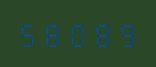eight: (42, 20, 65, 47), (90, 20, 113, 47)
five: (18, 20, 41, 47)
nine: (114, 20, 137, 47)
zero: (66, 20, 89, 47)
